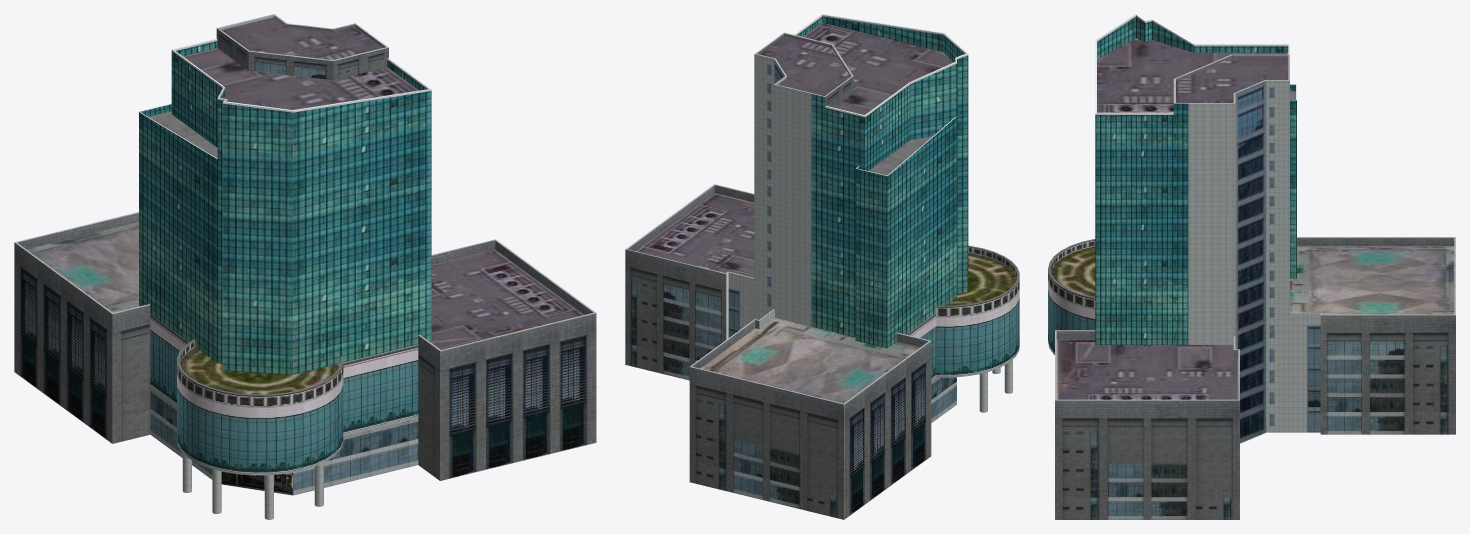
The picture shows the model from 3 angles, left to right: view 1: azimuth 30°, elevation 25°; view 2: azimuth 150°, elevation 25°; view 3: azimuth 270°, elevation 25°; orthographic projection. The views are drawn at different scales.
Parts seen in each view (by area): view 1: HN534_VienDauKhiVietNam; view 2: HN534_VienDauKhiVietNam; view 3: HN534_VienDauKhiVietNam.
Part boxes in pixels (x1=…): HN534_VienDauKhiVietNam: x1=14, y1=14, x2=596, y2=519; HN534_VienDauKhiVietNam: x1=625, y1=14, x2=1019, y2=519; HN534_VienDauKhiVietNam: x1=1048, y1=14, x2=1455, y2=519.
Size of the model in its own units: 82.97 by 83.26 by 85.97.
Materials: 1 (1 with a texture image).
